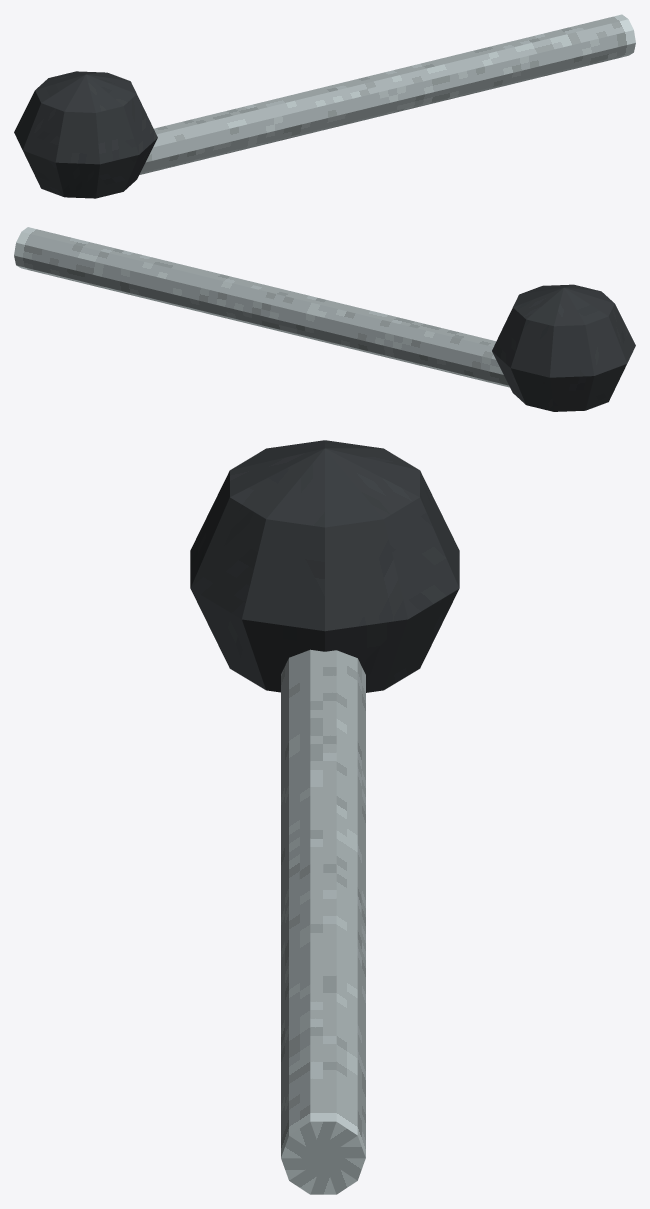
The model's file is art_pin.glb.
3 renders of one model, top to bottom at view 1: azimuth 30°, elevation 25°; view 2: azimuth 150°, elevation 25°; view 3: azimuth 270°, elevation 25°, orthographic. The views are drawn at different scales.
Parts seen in each view (by area): view 1: block_thin pin shaft, block_dark pinhead; view 2: block_thin pin shaft, block_dark pinhead; view 3: block_dark pinhead, block_thin pin shaft.
Boxes of the visible parts, left/top/right/bottom form: block_thin pin shaft: left=139, top=14, right=635, bottom=174; block_dark pinhead: left=14, top=71, right=157, bottom=198; block_thin pin shaft: left=14, top=227, right=509, bottom=387; block_dark pinhead: left=492, top=284, right=635, bottom=411; block_dark pinhead: left=190, top=440, right=459, bottom=692; block_thin pin shaft: left=281, top=649, right=365, bottom=1194.
Bounding box in the file's own units: 0.02 × 0.00384 × 0.00387.
Materials: 1 (1 with a texture image).
